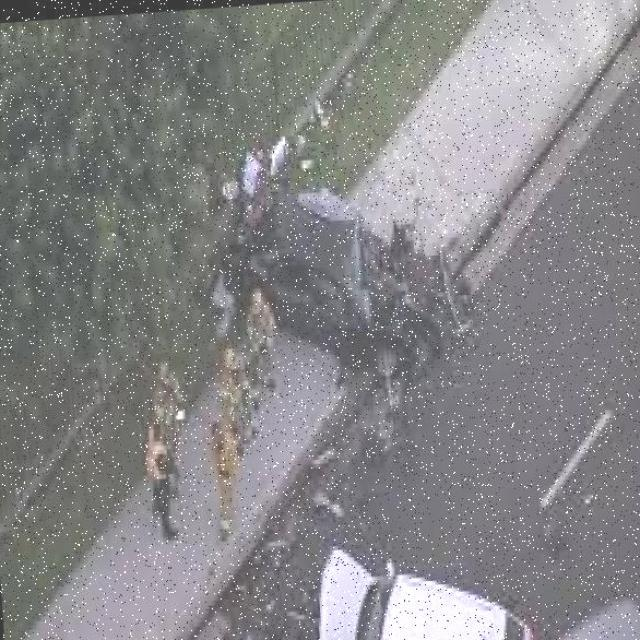accident: (216, 141, 492, 426), (287, 514, 640, 640)
